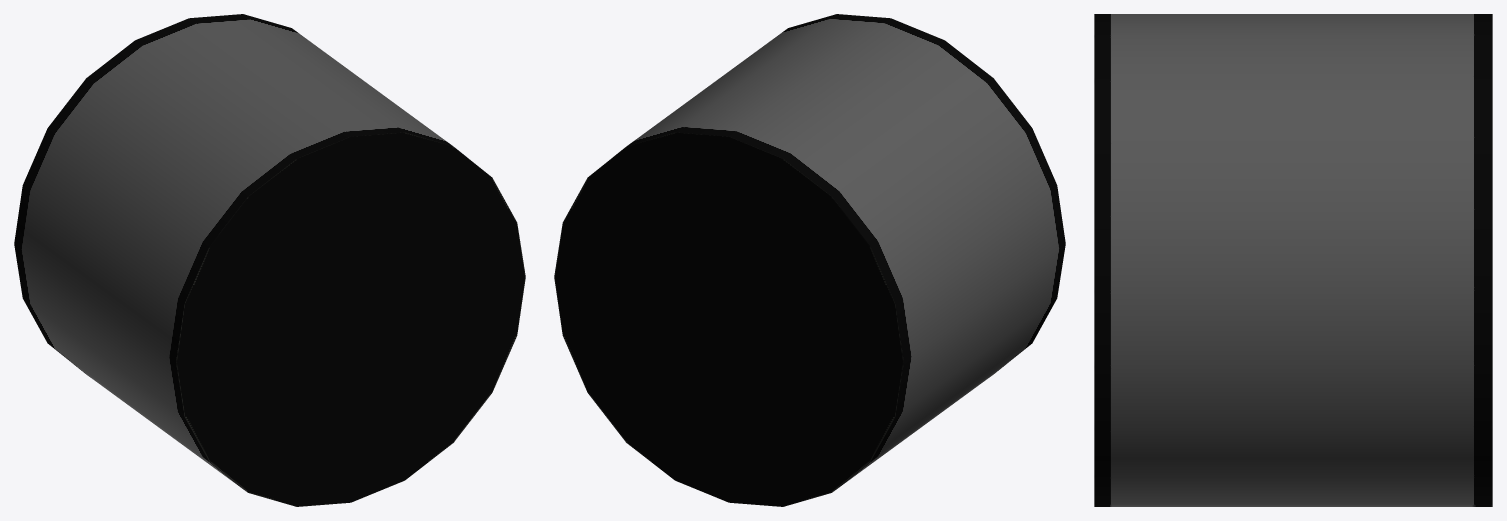
Rendered from armband.fbx.
The picture shows the model from 3 angles, left to right: view 1: azimuth 30°, elevation 25°; view 2: azimuth 150°, elevation 25°; view 3: azimuth 270°, elevation 25°; orthographic projection. The views are drawn at different scales.
Visible parts, largest first — view 1: robothand:pCylinder4; view 2: robothand:pCylinder4; view 3: robothand:pCylinder4.
Boxes of the visible parts, box(x1,y1,x2,y2) form: robothand:pCylinder4: box(14, 14, 525, 506); robothand:pCylinder4: box(554, 14, 1065, 506); robothand:pCylinder4: box(1094, 14, 1492, 506).
Bounding box in the file's own units: 1.78 × 1.78 × 1.43.
